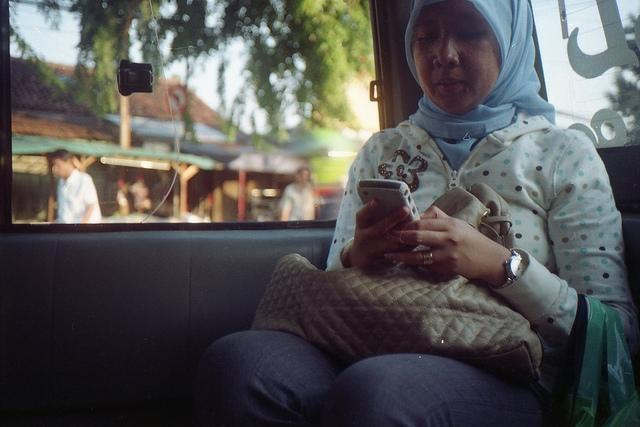car: (0, 0, 640, 421)
